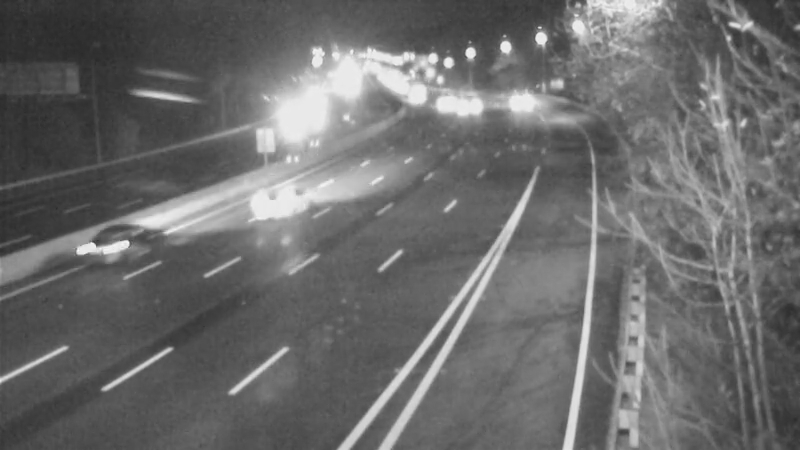vehicle: (235, 158, 315, 238), (63, 206, 143, 286), (492, 75, 542, 125), (390, 74, 440, 124), (418, 77, 468, 127), (440, 78, 490, 128)
